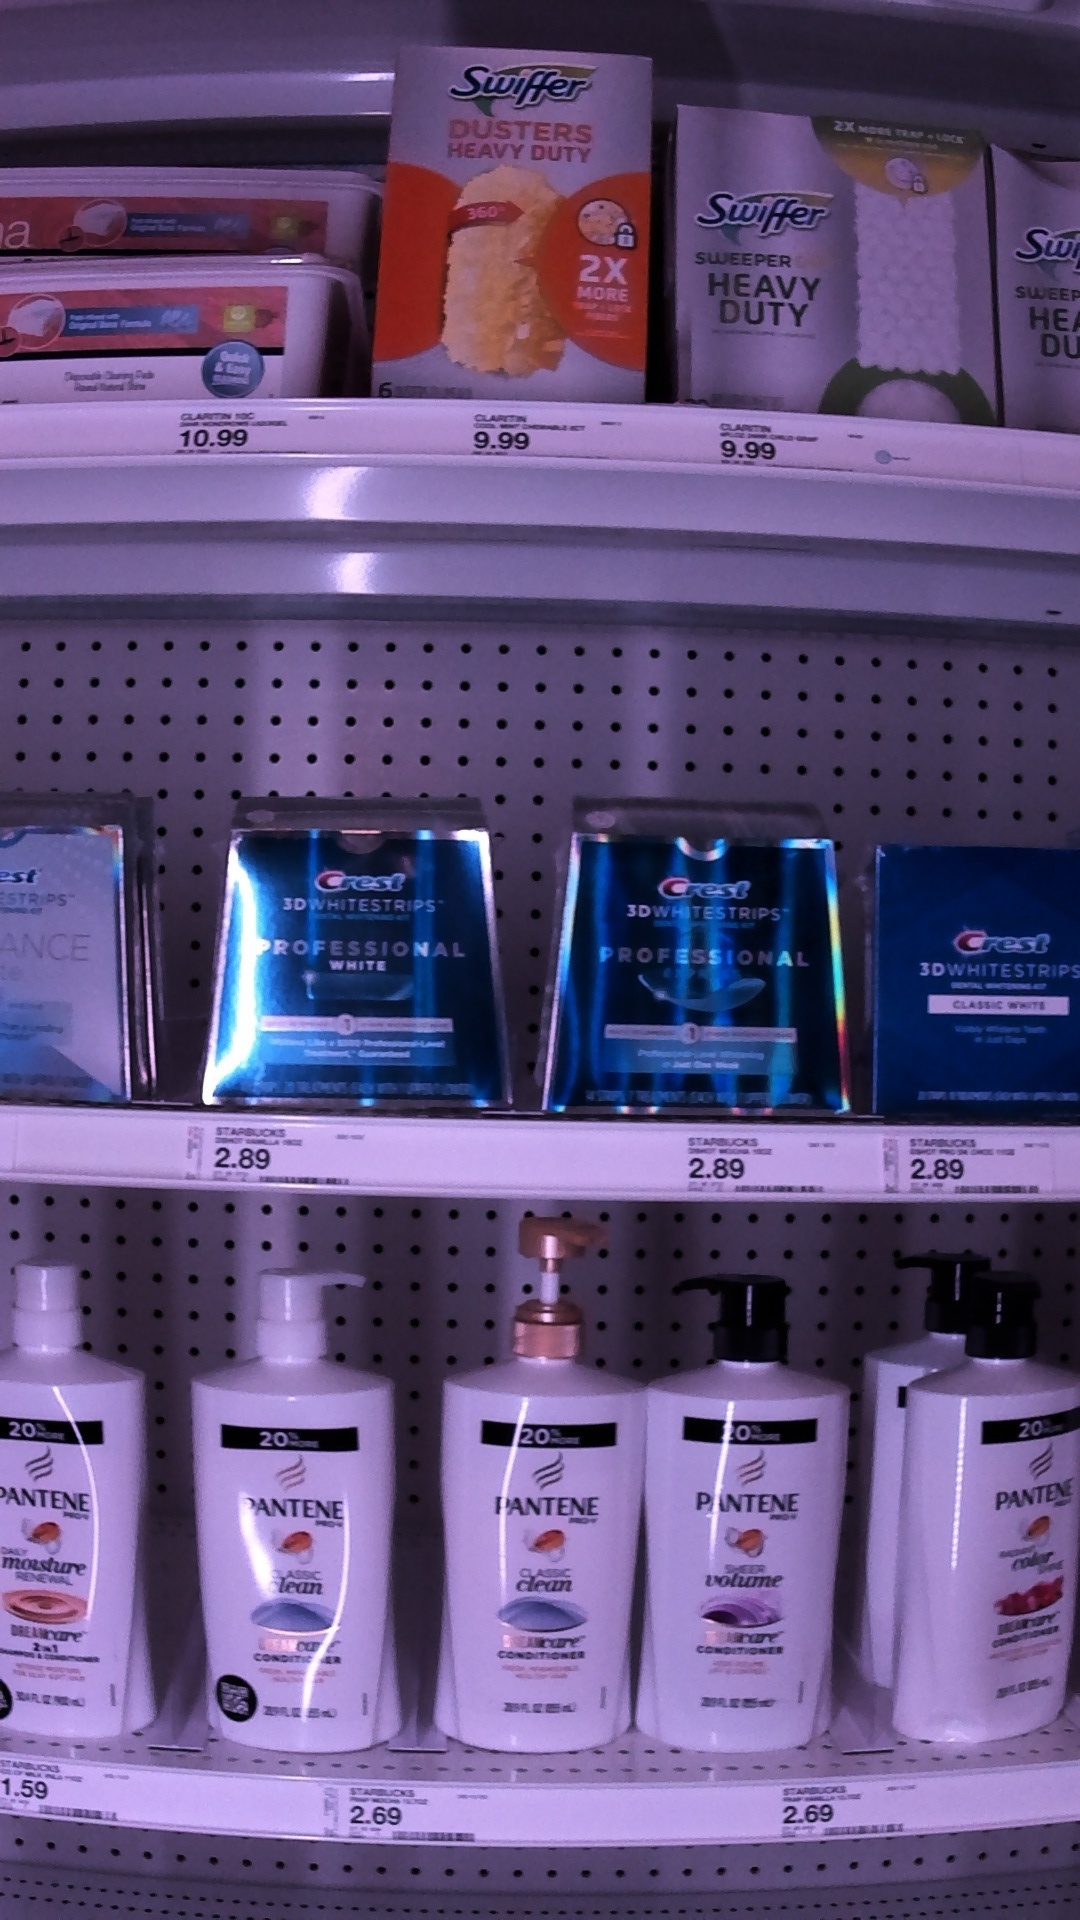ptag: (185, 1095, 371, 1191), (318, 1778, 506, 1853), (464, 397, 633, 469), (662, 1129, 844, 1195), (178, 397, 340, 471), (711, 402, 864, 477), (886, 1129, 1051, 1197), (773, 1768, 924, 1842), (1, 1760, 138, 1833)
